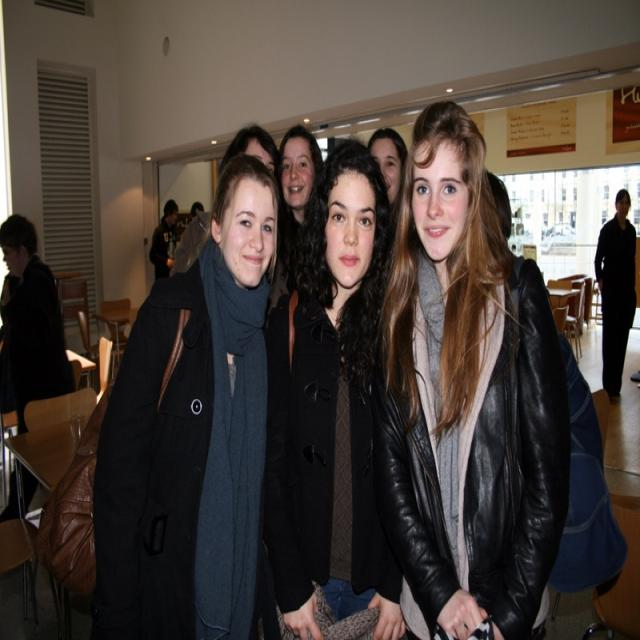body: (366, 93, 632, 639), (88, 152, 282, 639), (263, 134, 410, 639), (0, 210, 80, 566), (594, 187, 638, 406), (269, 122, 325, 288), (215, 119, 282, 181), (366, 124, 411, 202), (148, 198, 181, 284), (511, 216, 562, 253), (185, 196, 206, 232), (634, 372, 640, 396)
